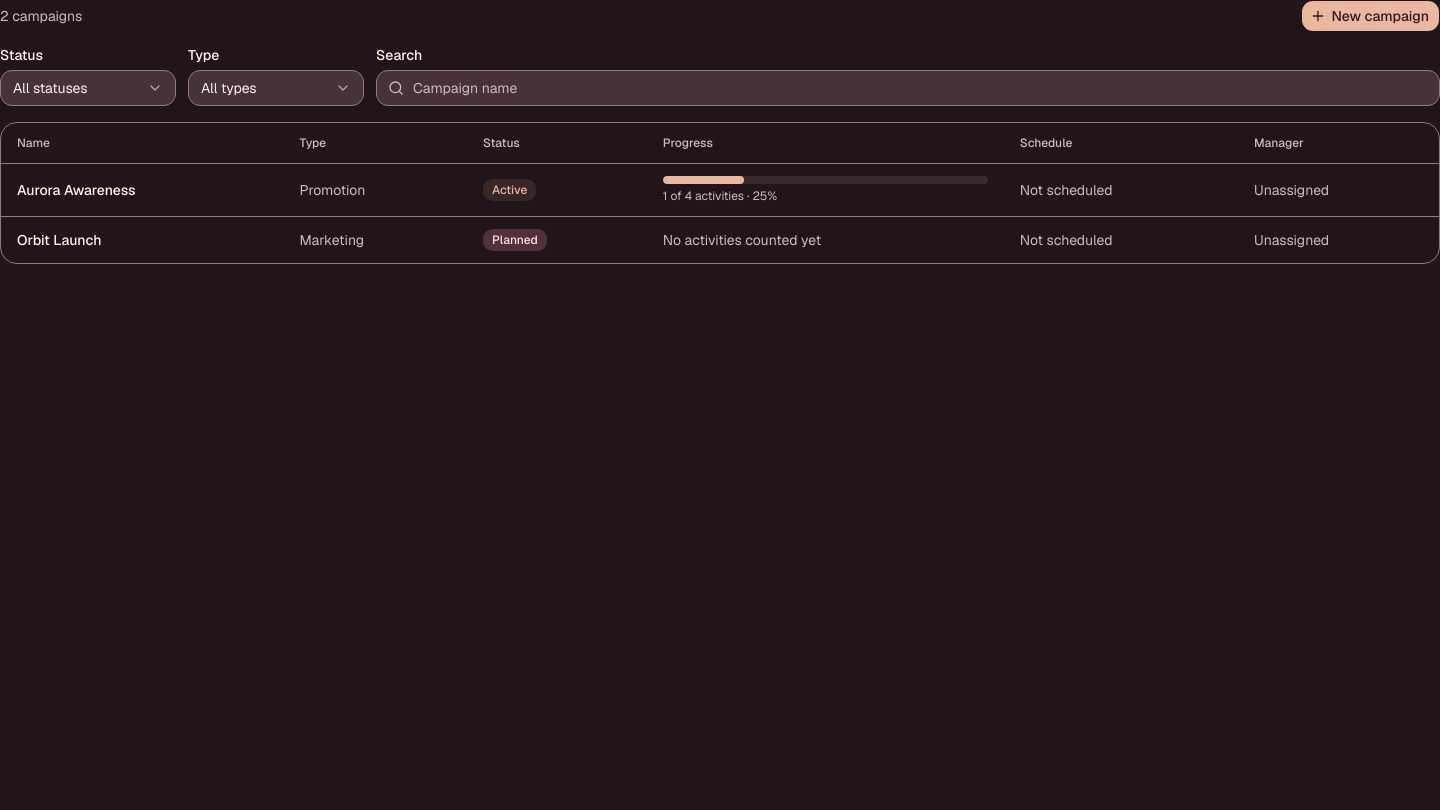
Scenario: CampaignsManager API integration › detail › loads the campaign, its budget, and its activities from the API
Click the button "Aurora Awareness": (76, 190) [17, 180, 136, 200]
(page scrolled)
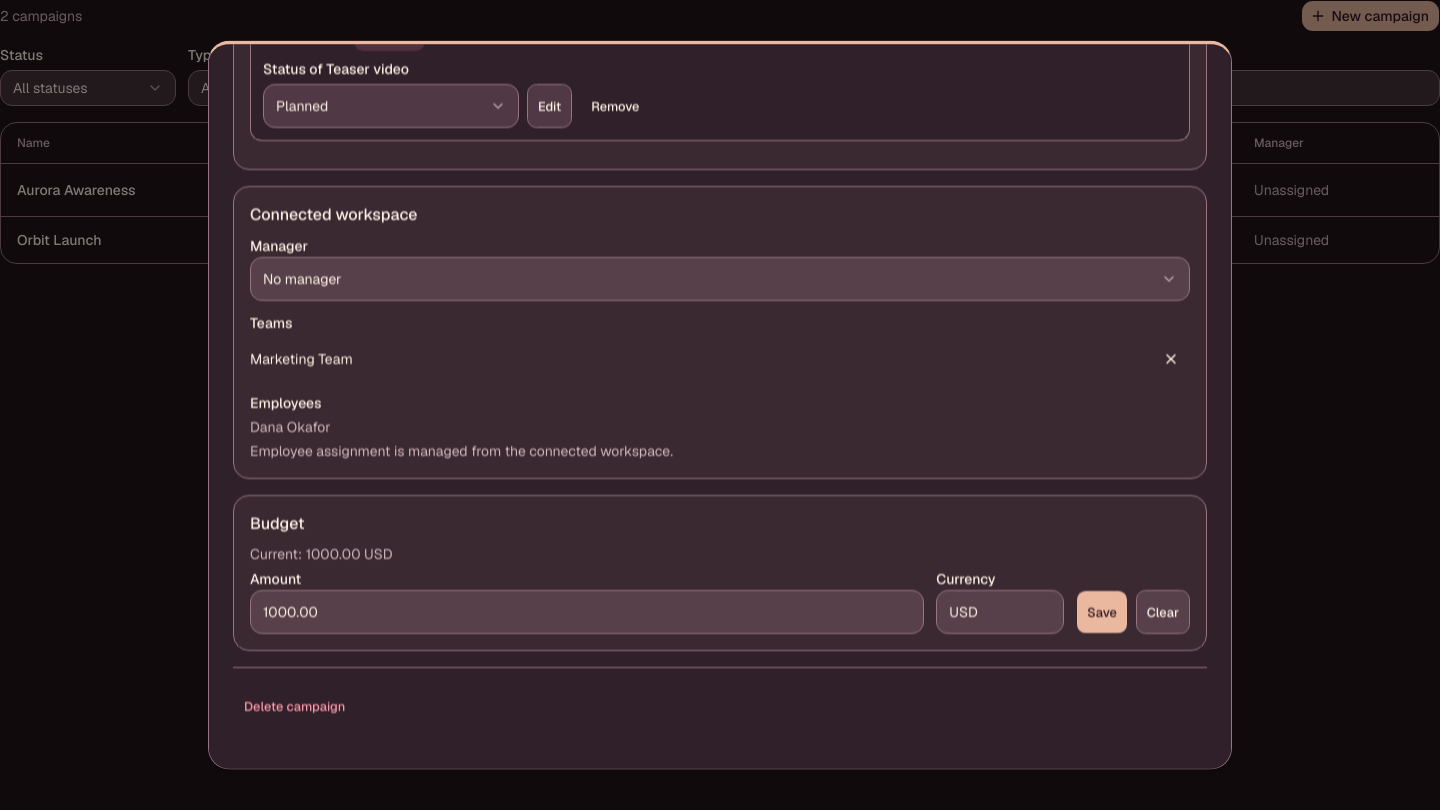
expect the text "Current: 1000.00 USD" is shown: met, box [250, 546, 393, 564]
